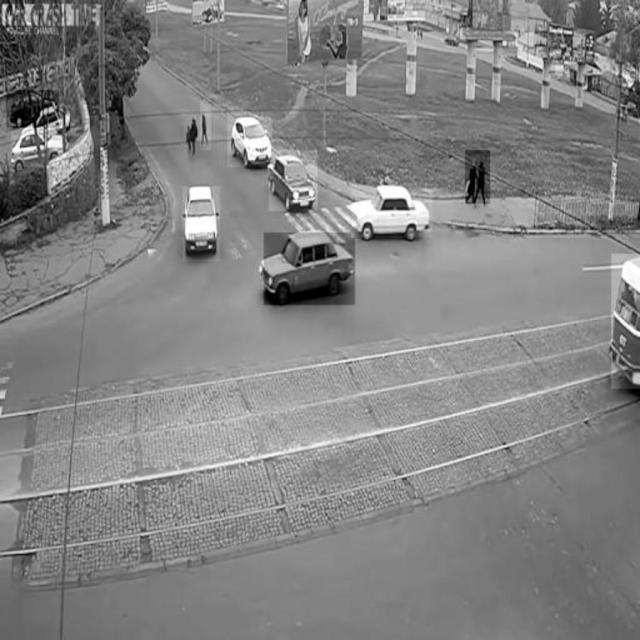person: (465, 150, 490, 204), (183, 112, 200, 160), (200, 101, 210, 151)
vehicle: (264, 233, 355, 305), (352, 184, 433, 238), (611, 254, 640, 388), (269, 150, 317, 211), (184, 187, 221, 261), (228, 112, 273, 168), (11, 126, 66, 168), (7, 91, 59, 128)
